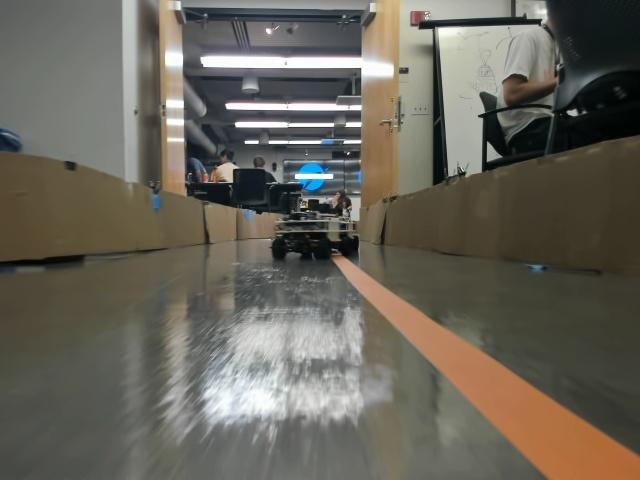Car: (270, 204, 351, 259)
